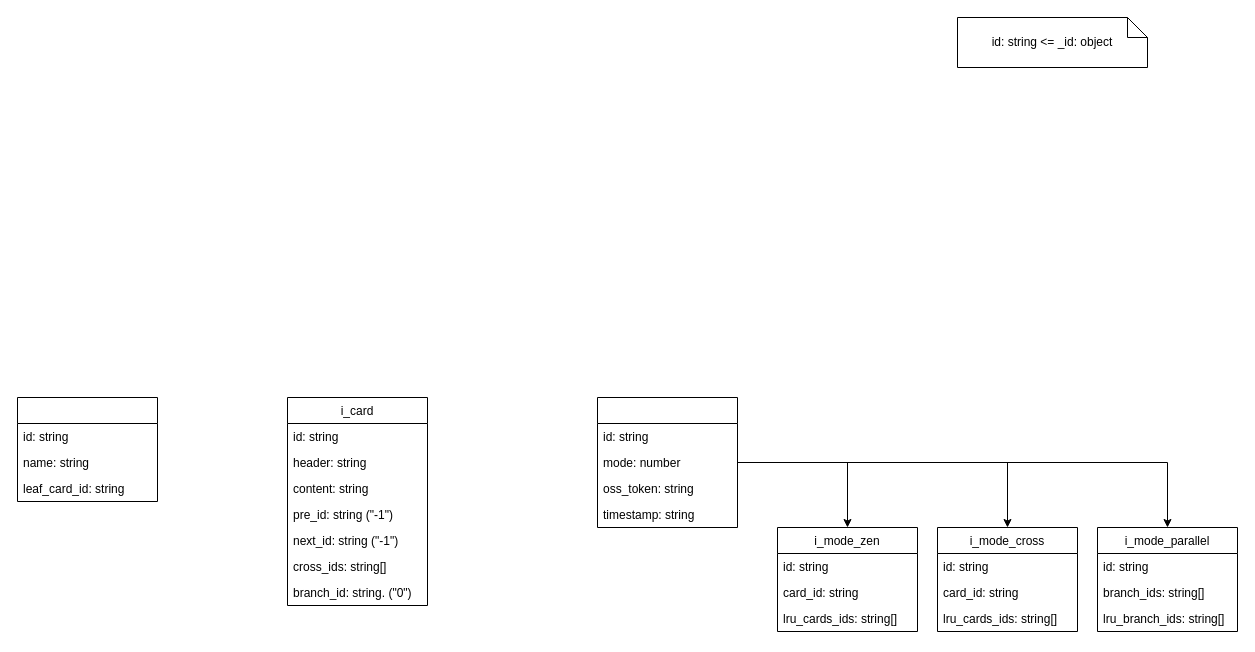
The diagram is 1255 pixels wide and 652 high, and some of its shapes have lost their labels. Each missing label, with the box of its shape:
i_active: (596, 396, 738, 528)
i_branch: (16, 396, 158, 502)
